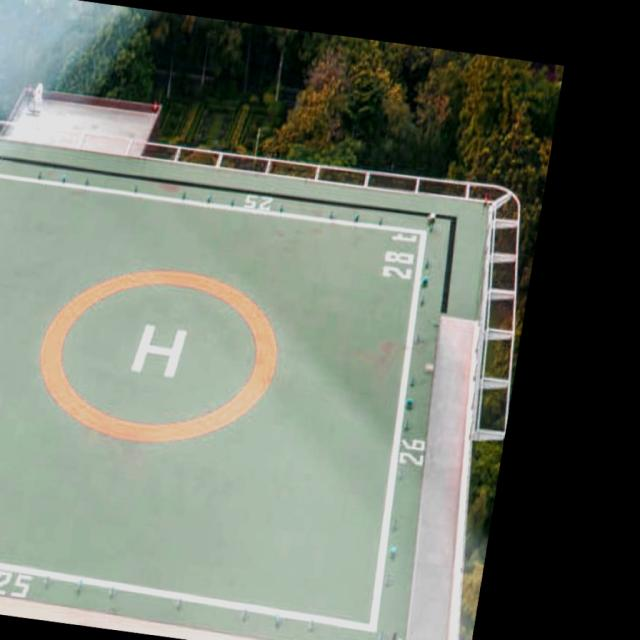helipad: (35, 261, 282, 448)
